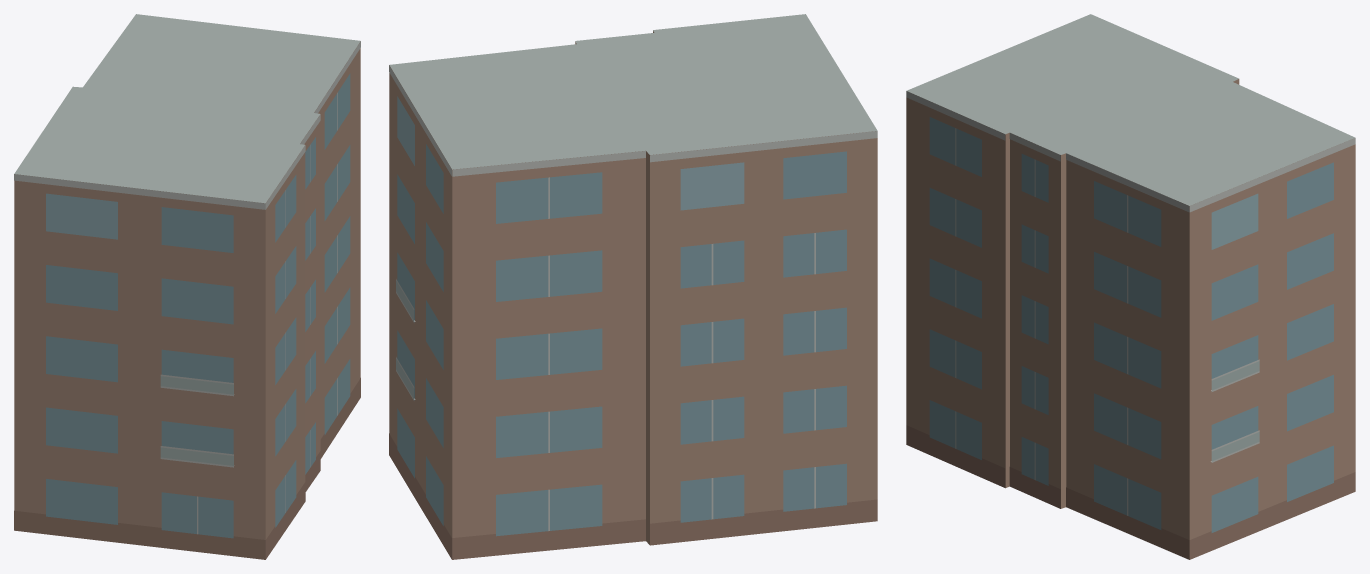
File: survey-upis-32872381.glb
3 renders of one model, left to right at view 1: azimuth 30°, elevation 25°; view 2: azimuth 150°, elevation 25°; view 3: azimuth 270°, elevation 25°, orthographic. The views are drawn at different scales.
Visible parts, largest first — view 1: survey-upis-32872381.tmp; view 2: survey-upis-32872381.tmp; view 3: survey-upis-32872381.tmp.
Boxes of the visible parts, bbox=[...] form: survey-upis-32872381.tmp: bbox=[14, 14, 360, 559]; survey-upis-32872381.tmp: bbox=[389, 14, 877, 559]; survey-upis-32872381.tmp: bbox=[906, 14, 1355, 559].
Bounding box in the file's own units: 15.37 × 13.2 × 15.19.
